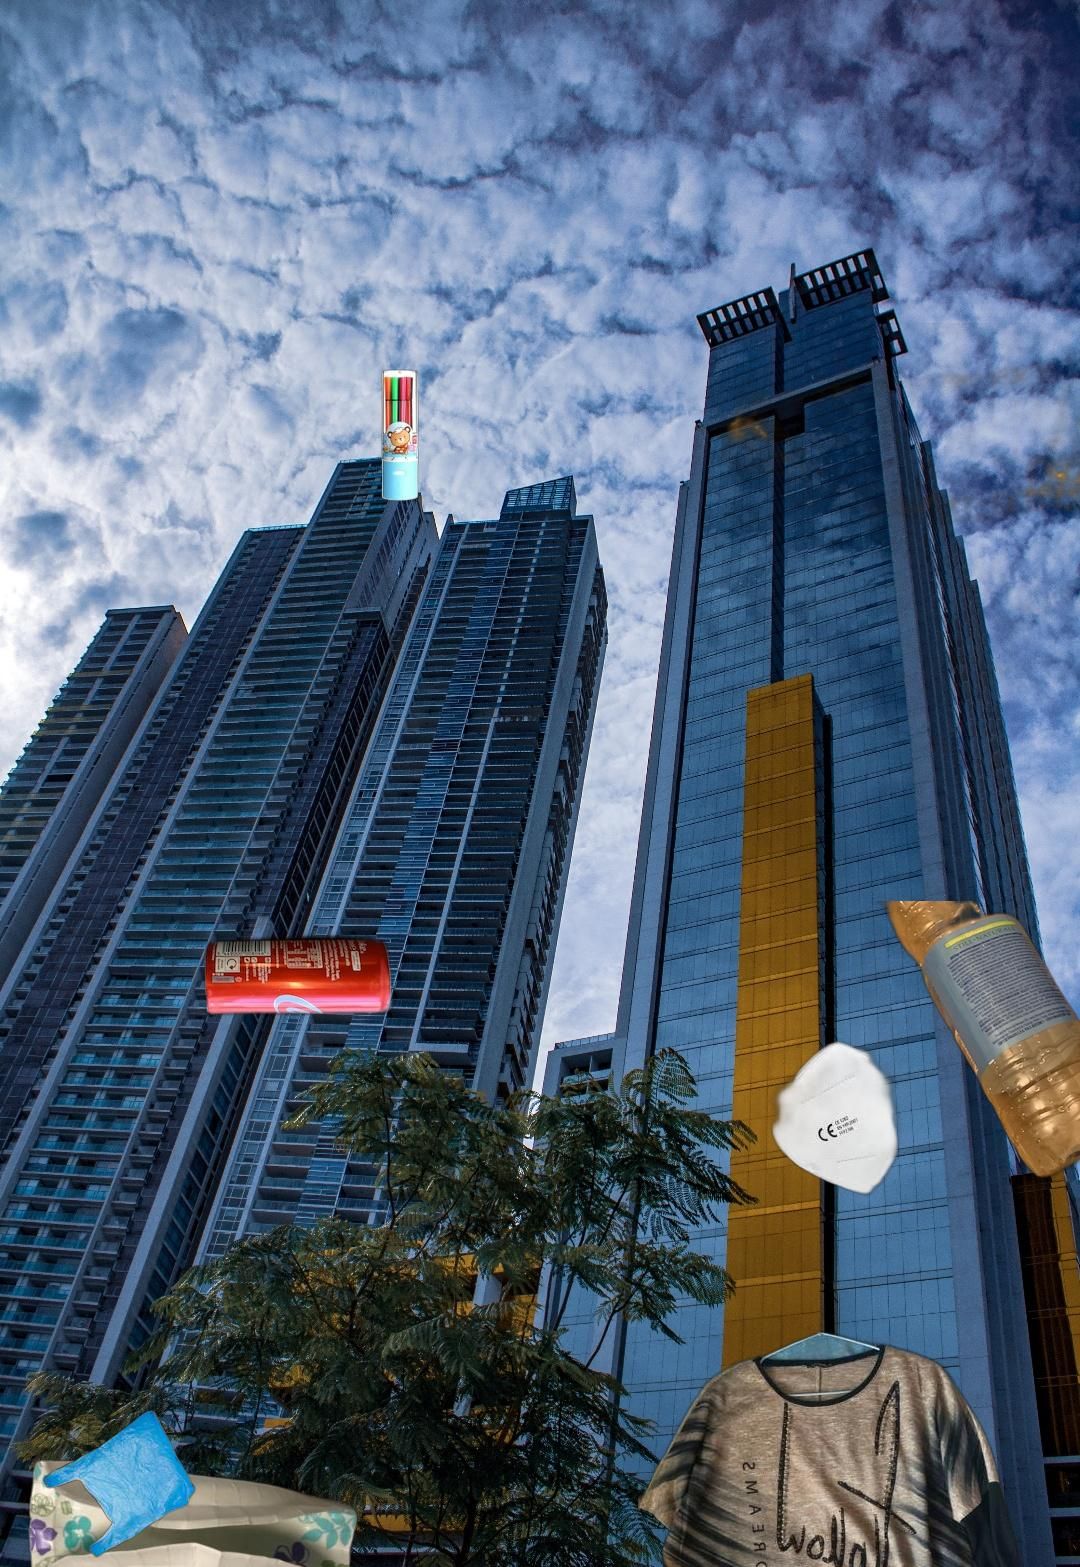clothes: (638, 1292, 1038, 1567)
metal-cans: (200, 931, 397, 1020)
paper: (24, 1456, 363, 1567)
penholder: (379, 367, 422, 504)
plastic-bag: (40, 1407, 198, 1559)
plastic-bottles: (869, 901, 1080, 1184)
trash: (710, 1016, 917, 1199)
trashbox-cardboard: (722, 323, 1080, 707)
